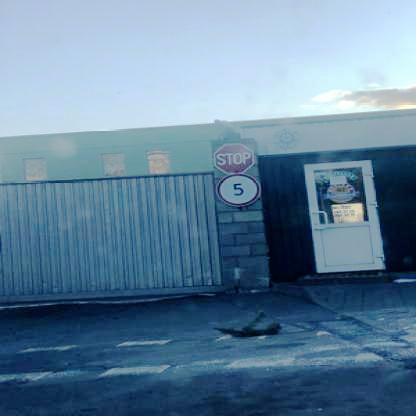Stop Sign: (210, 140, 258, 176)
